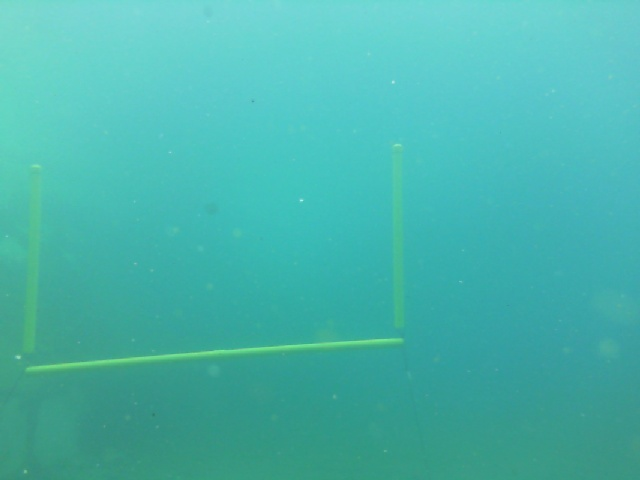channel: (21, 141, 408, 377)
